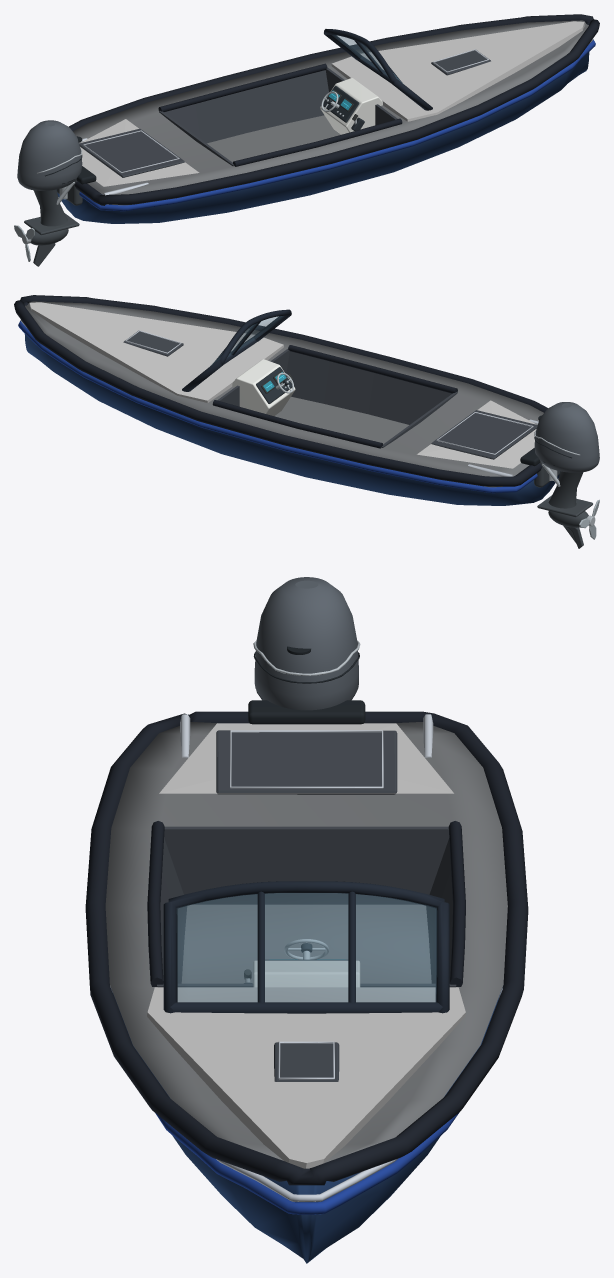
Rendered from Motorboat_Reference.fbx.
3 renders of one model, top to bottom at view 1: azimuth 30°, elevation 25°; view 2: azimuth 150°, elevation 25°; view 3: azimuth 270°, elevation 25°, orthographic. The views are drawn at different scales.
Parts seen in each view (by area): view 1: Motorboat_Hull, Bow_Casting_Deck, Black_Rub_Rail, Cockpit_Recess_Inner_Walls, Outboard_Upper_Cowling, Blue_Hull_Stripe, Cockpit_Recess_Floor, Flush_Storage_Hatch, Aft_Casting_Platform, Helm_Console_Body, Windshield_Frame_Connected, Cockpit_Starboard_Coaming (+7 smaller); view 2: Motorboat_Hull, Bow_Casting_Deck, Black_Rub_Rail, Cockpit_Recess_Inner_Walls, Outboard_Upper_Cowling, Blue_Hull_Stripe, Cockpit_Recess_Floor, Flush_Storage_Hatch, Aft_Casting_Platform, Helm_Console_Body, Windshield_Frame_Connected, Cockpit_Port_Coaming (+8 smaller); view 3: Motorboat_Hull, Bow_Casting_Deck, Black_Rub_Rail, Windshield_Curved_Glass, Cockpit_Recess_Inner_Walls, Cockpit_Recess_Floor, Flush_Storage_Hatch, Outboard_Upper_Cowling, Windshield_Frame_Connected, Aft_Casting_Platform, Blue_Hull_Stripe, Windshield_Bottom_Frame (+9 smaller).
Part boxes in pixels (x1,y1,x2,y2): Motorboat_Hull: (57,20,589,223); Bow_Casting_Deck: (331,21,584,121); Black_Rub_Rail: (69,14,599,205); Cockpit_Recess_Inner_Walls: (159,67,397,166); Outboard_Upper_Cowling: (17,120,82,190); Blue_Hull_Stripe: (79,39,595,211); Cockpit_Recess_Floor: (207,115,340,162); Flush_Storage_Hatch: (79,128,184,177); Aft_Casting_Platform: (80,119,199,186); Helm_Console_Body: (320,78,382,134); Windshield_Frame_Connected: (324,29,432,110); Cockpit_Starboard_Coaming: (158,63,327,111); Motorboat_Hull: (24,301,559,505); Bow_Casting_Deck: (29,302,283,402); Black_Rub_Rail: (14,295,547,486); Cockpit_Recess_Inner_Walls: (217,349,457,447); Outboard_Upper_Cowling: (534,402,599,472); Blue_Hull_Stripe: (18,320,537,493); Cockpit_Recess_Floor: (274,396,408,444); Flush_Storage_Hatch: (431,410,537,459); Aft_Casting_Platform: (417,400,536,468); Helm_Console_Body: (232,359,295,415); Windshield_Frame_Connected: (182,309,291,391); Cockpit_Port_Coaming: (288,345,457,393); Motorboat_Hull: (105,722,507,1263); Bow_Casting_Deck: (147,987,465,1168); Black_Rub_Rail: (85,711,528,1185); Windshield_Curved_Glass: (176,893,436,1001); Cockpit_Recess_Inner_Walls: (157,826,456,987); Cockpit_Recess_Floor: (181,904,431,983); Flush_Storage_Hatch: (216,730,397,794); Outboard_Upper_Cowling: (254,577,358,710); Windshield_Frame_Connected: (163,881,449,1013); Aft_Casting_Platform: (159,723,453,793); Blue_Hull_Stripe: (155,1112,459,1214); Windshield_Bottom_Frame: (170,1002,442,1013).
Size of the model in its own units: 9.2 by 2.22 by 3.06.
